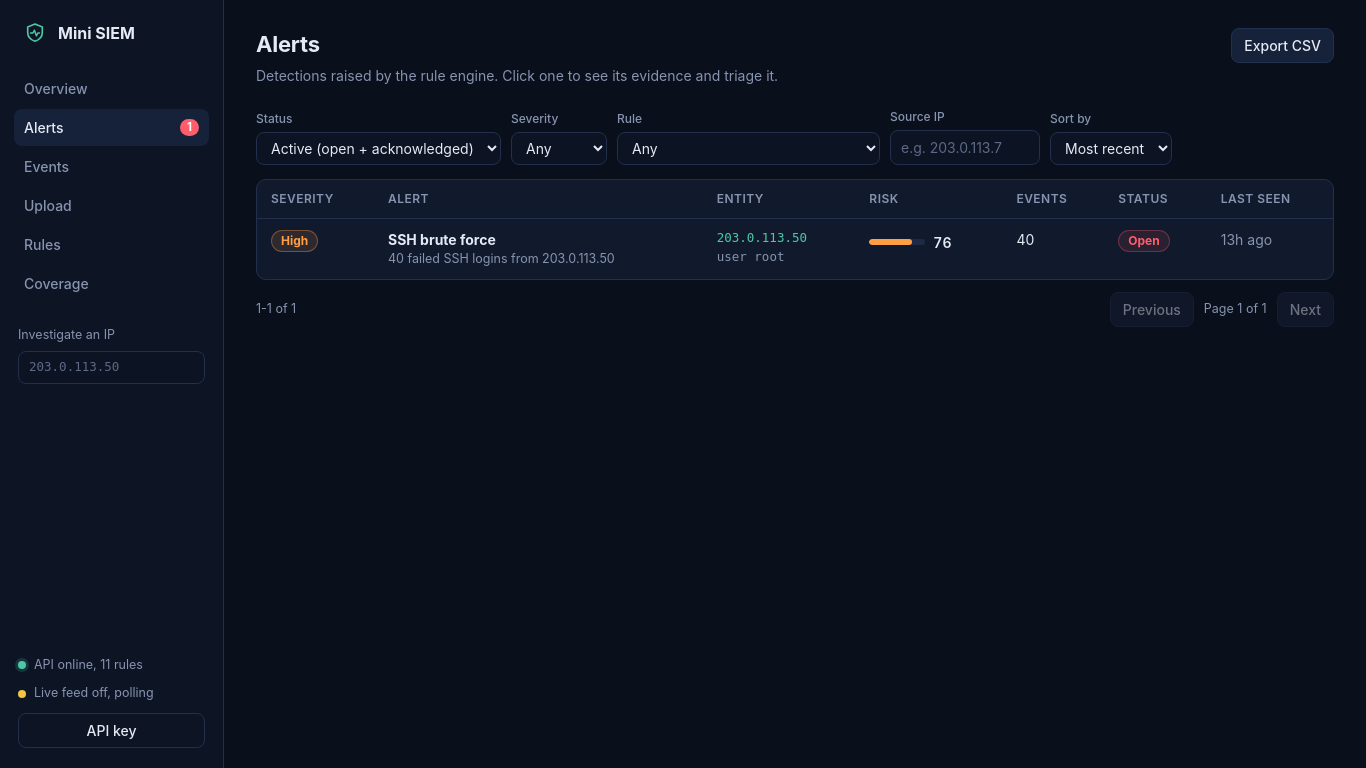
CSV export › still saves the file when a proxy strips the row-count headers
Click the button "Export CSV". click: (1283, 46)
box: [1231,28,1334,63]
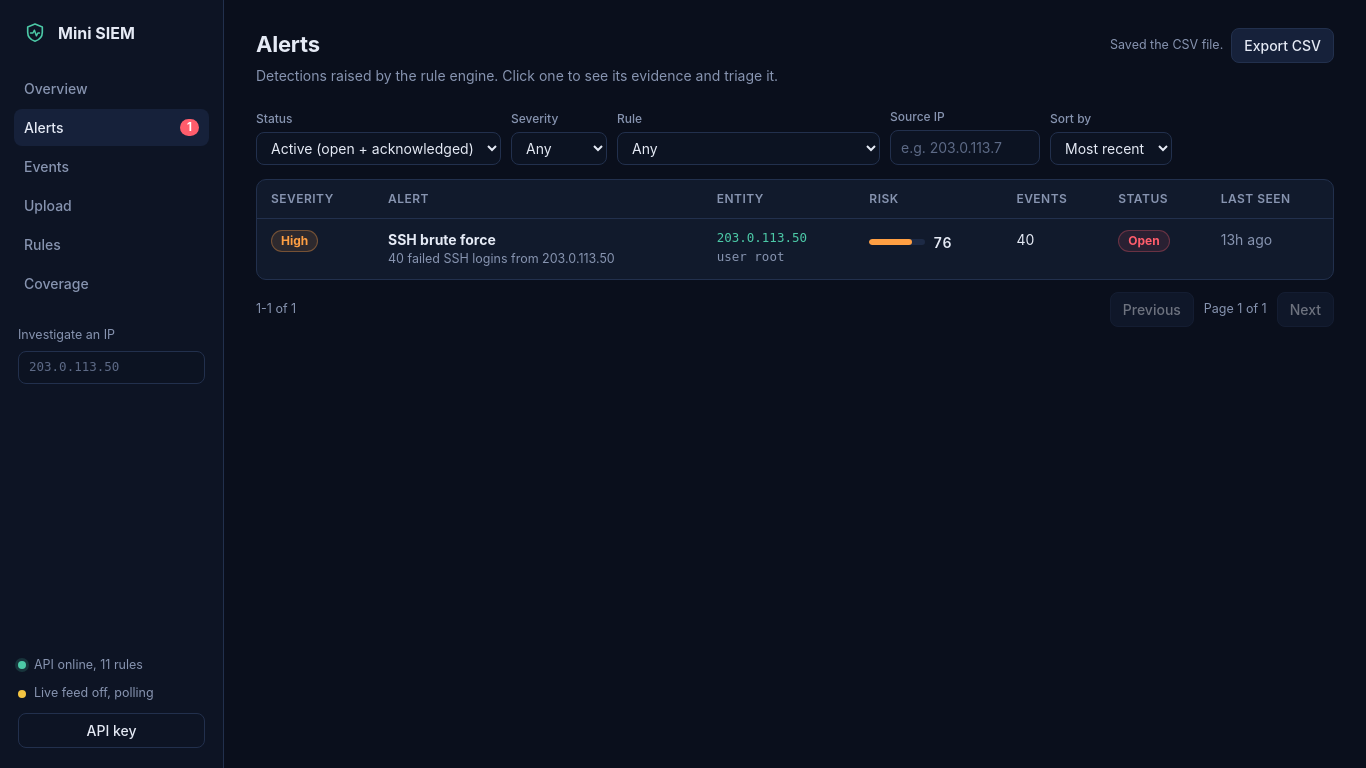
Now the text "Saved the CSV file." is shown, box [1110,36,1223,55]
